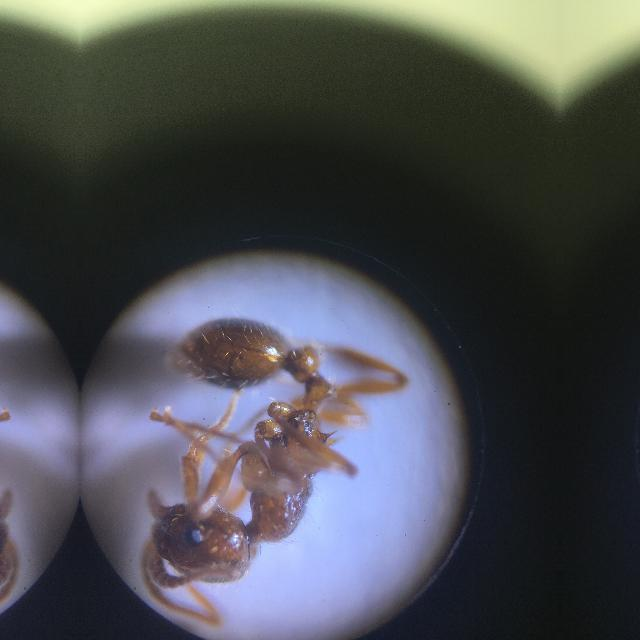Myrmica: (120, 299, 426, 627)
